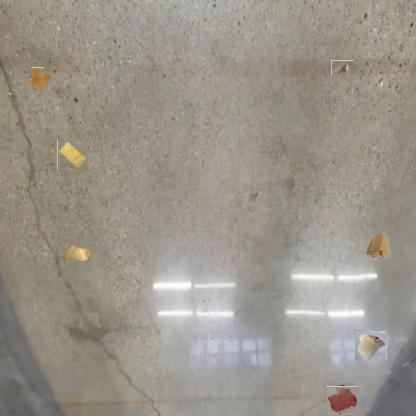dirty: (356, 329, 387, 361), (58, 140, 88, 171), (364, 231, 392, 261), (60, 242, 90, 262), (331, 60, 354, 75)
liquid: (327, 385, 356, 414), (29, 71, 48, 89)
